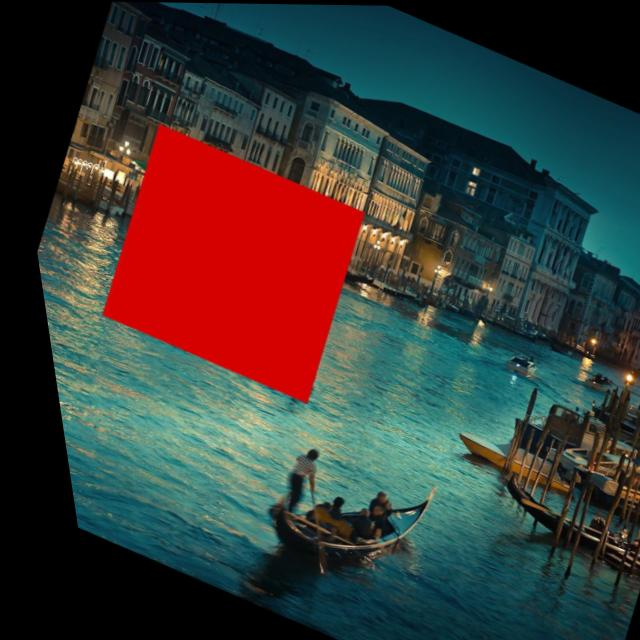RedSquare: (61, 116, 390, 412)
